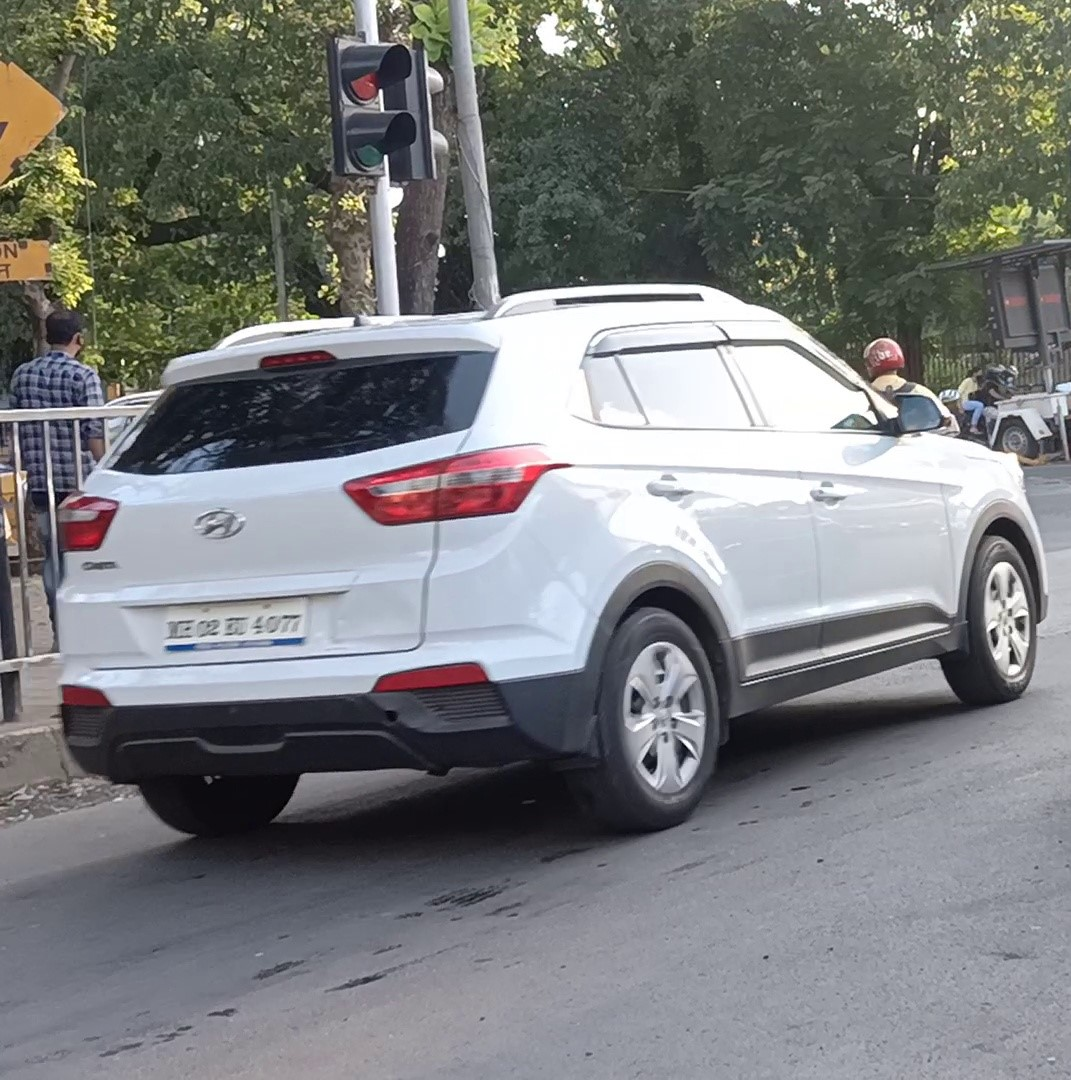MH02EU4077: (165, 594, 305, 643)
